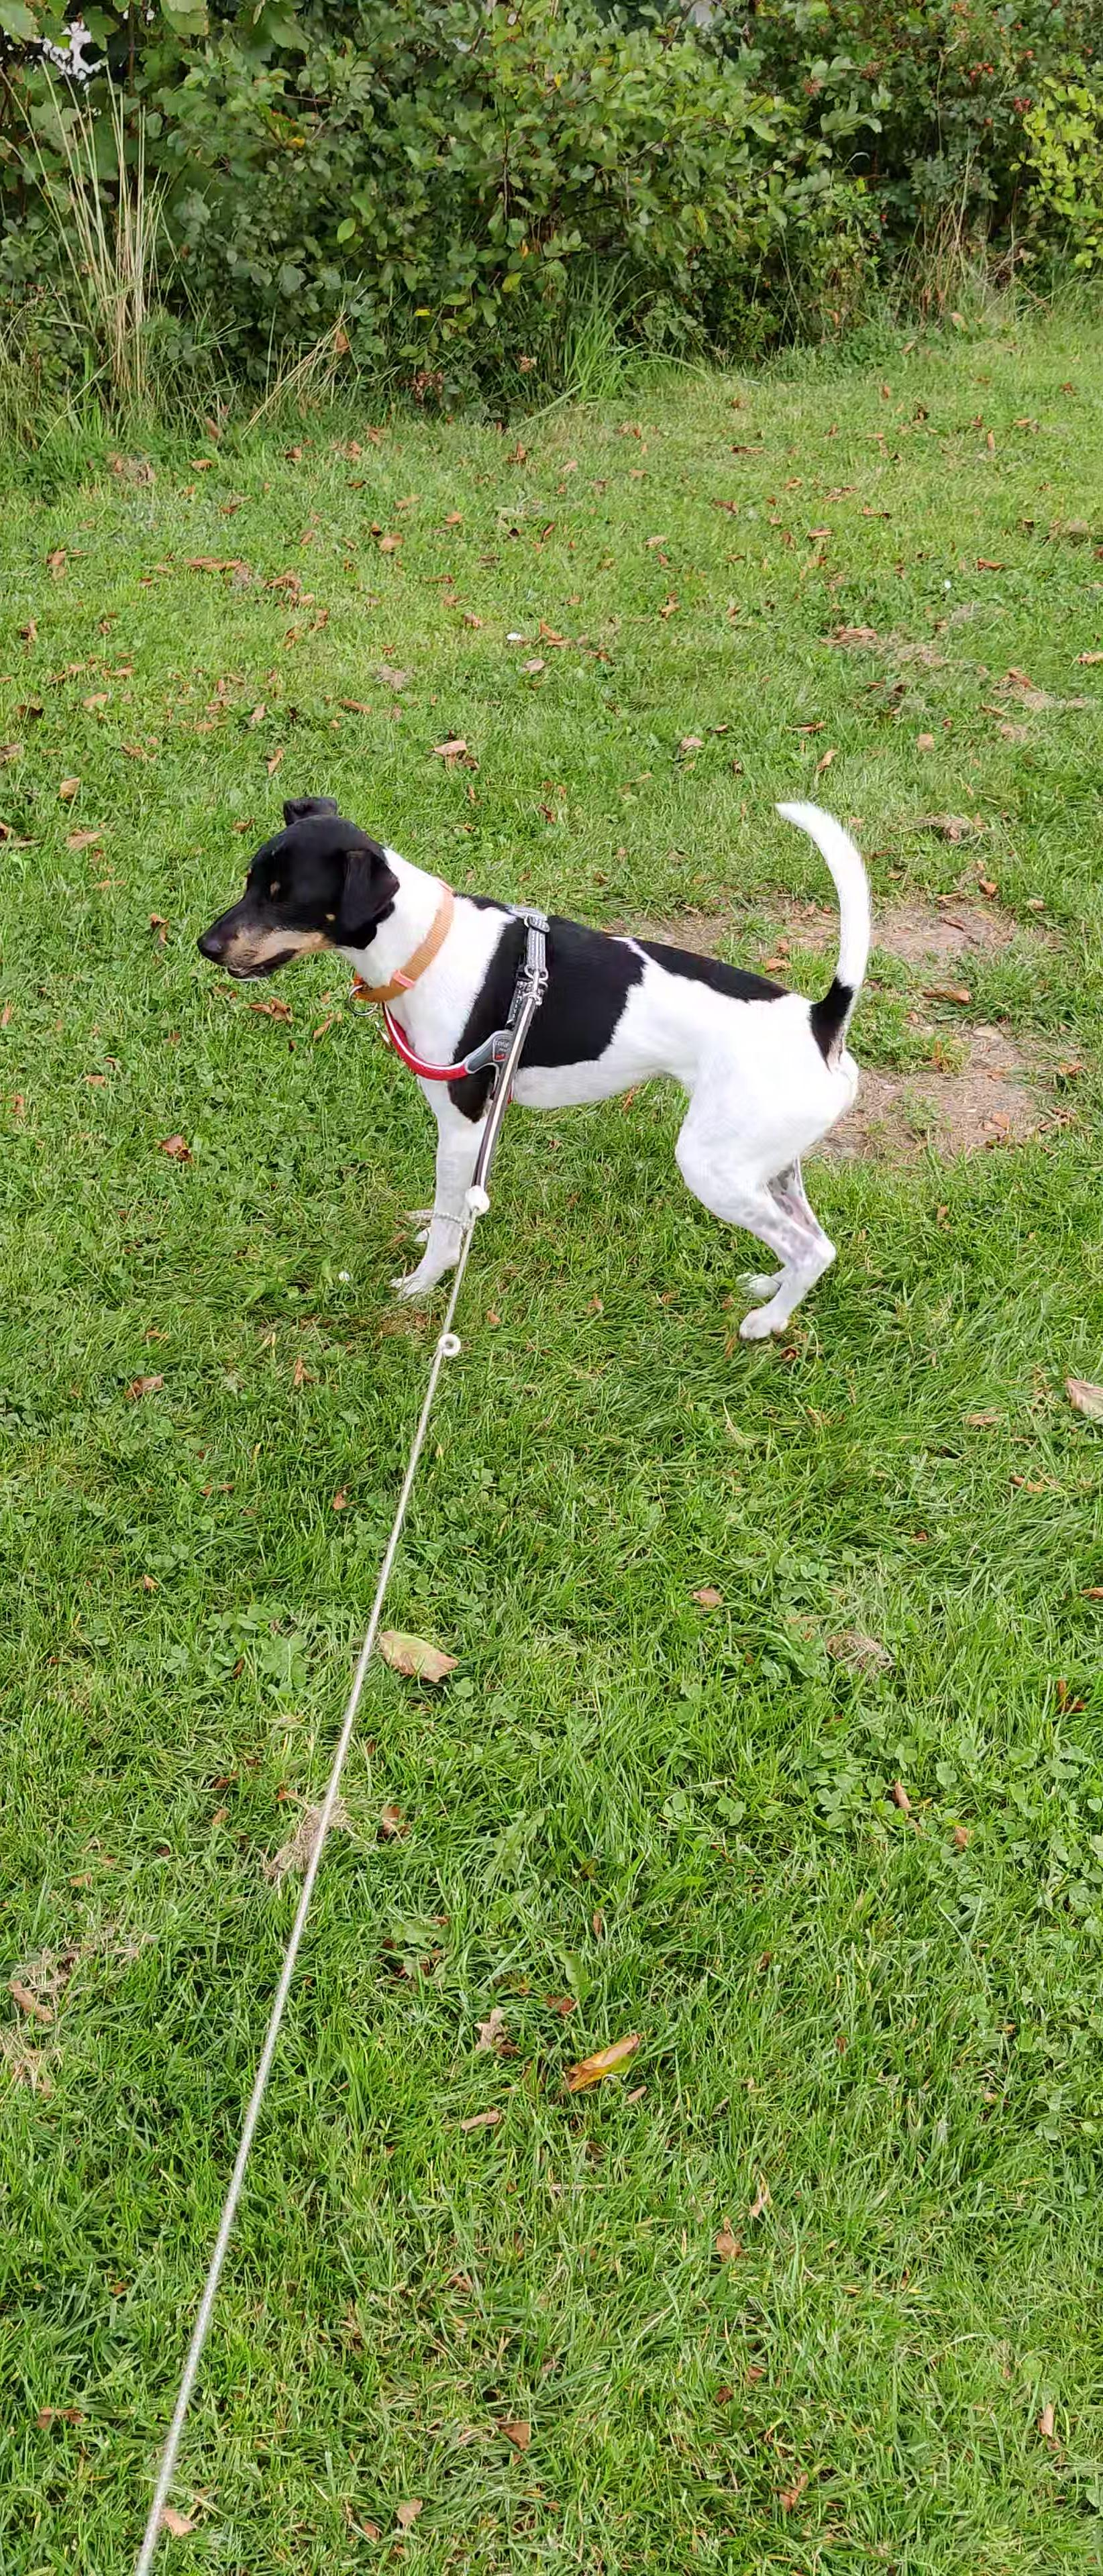Dog: (173, 754, 916, 1377)
